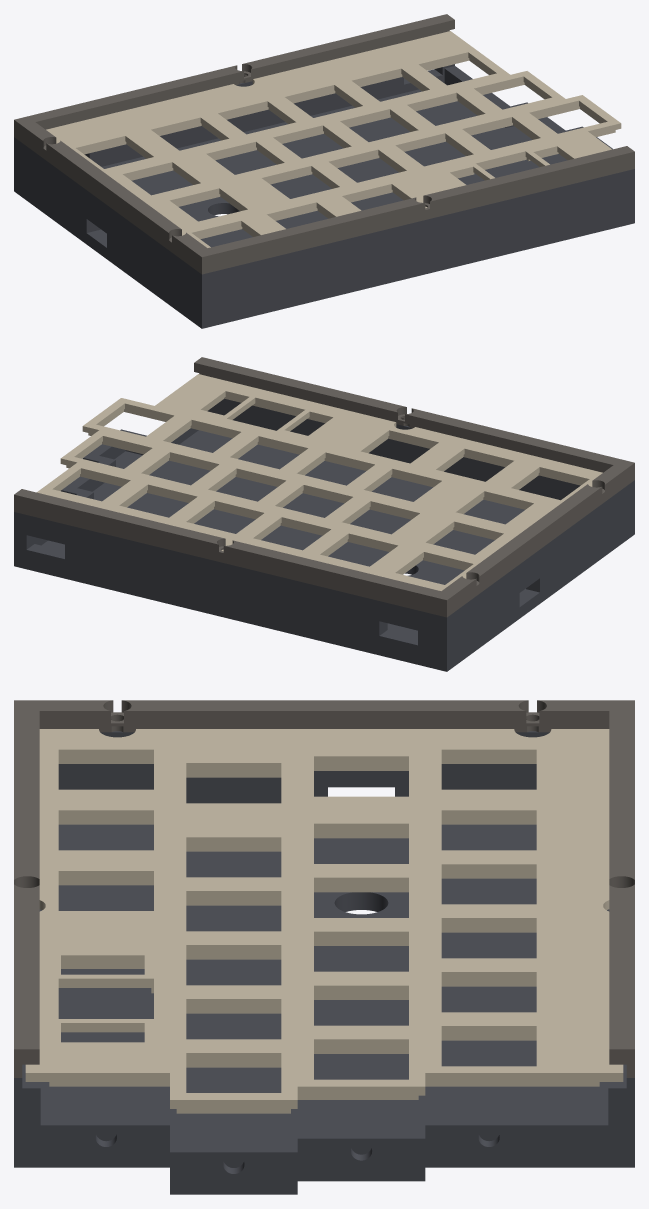
File: gemini_left_case.glb
3 views of the same model, one above another, from view 1: azimuth 30°, elevation 25°; view 2: azimuth 150°, elevation 25°; view 3: azimuth 270°, elevation 25° (orthographic). The views are drawn at different scales.
Visible parts, largest first — view 1: bottom, plate, top; view 2: bottom, plate, top; view 3: plate, bottom, top.
Part boxes in pixels (x1=…): bottom: x1=14, y1=64, x2=634, y2=328; plate: x1=46, y1=31, x2=621, y2=247; top: x1=14, y1=14, x2=634, y2=274; bottom: x1=14, y1=398, x2=634, y2=671; plate: x1=37, y1=374, x2=602, y2=590; top: x1=14, y1=357, x2=634, y2=617; plate: x1=25, y1=729, x2=623, y2=1113; bottom: x1=14, y1=731, x2=634, y2=1194; top: x1=14, y1=700, x2=634, y2=1077.
Size of the model in its own units: 133 by 19.5 by 92.7.
